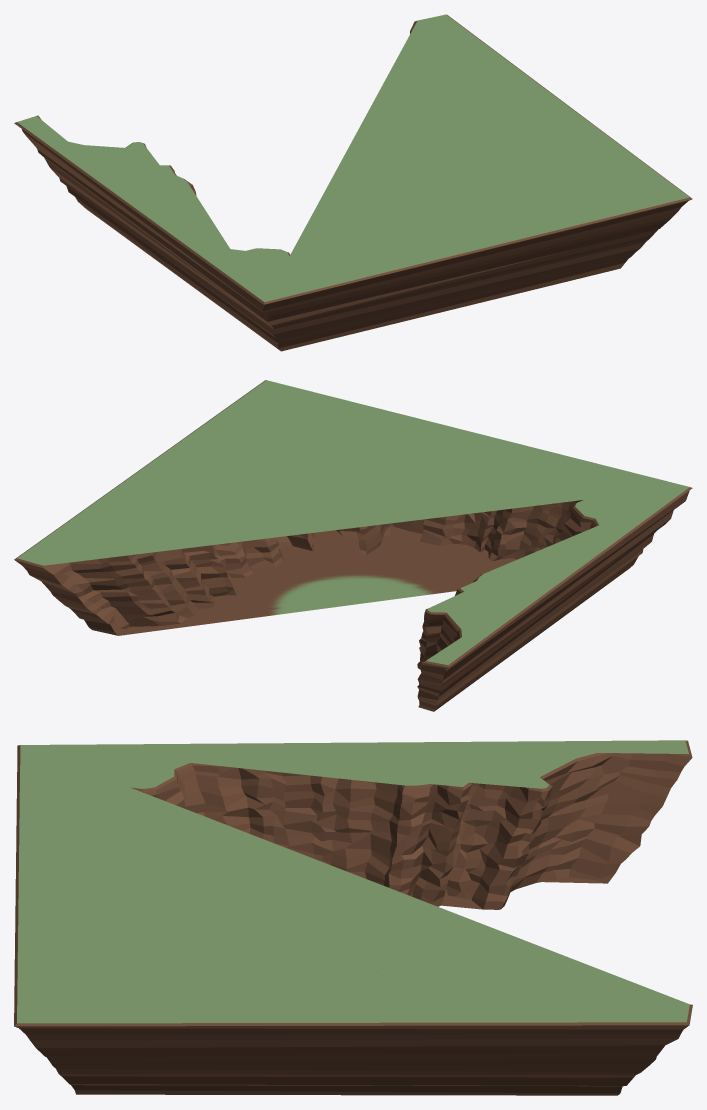
Rendered from Cliff.fbx.
The picture shows the model from 3 angles, top to bottom: view 1: azimuth 30°, elevation 25°; view 2: azimuth 150°, elevation 25°; view 3: azimuth 270°, elevation 25°; orthographic projection. The views are drawn at different scales.
Parts seen in each view (by area): view 1: Plane; view 2: Plane; view 3: Plane.
Part boxes in pixels (x1,y1,x2,y2): Plane: [14, 14, 692, 351]; Plane: [14, 380, 692, 711]; Plane: [14, 740, 692, 1095].
Bounding box in the file's own units: 7030 × 1230 × 7012.
